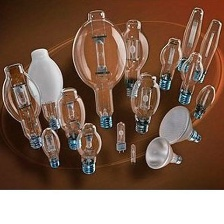light_bulb: (67, 5, 131, 131), (1, 58, 47, 153), (24, 46, 68, 132), (114, 15, 152, 102), (186, 17, 223, 87), (54, 85, 89, 152), (175, 4, 207, 74), (129, 69, 162, 136), (154, 101, 202, 147), (153, 32, 185, 92), (173, 50, 206, 106), (73, 119, 104, 176), (142, 135, 184, 171), (39, 125, 64, 172), (191, 82, 217, 122), (110, 118, 129, 156), (125, 141, 139, 168)
